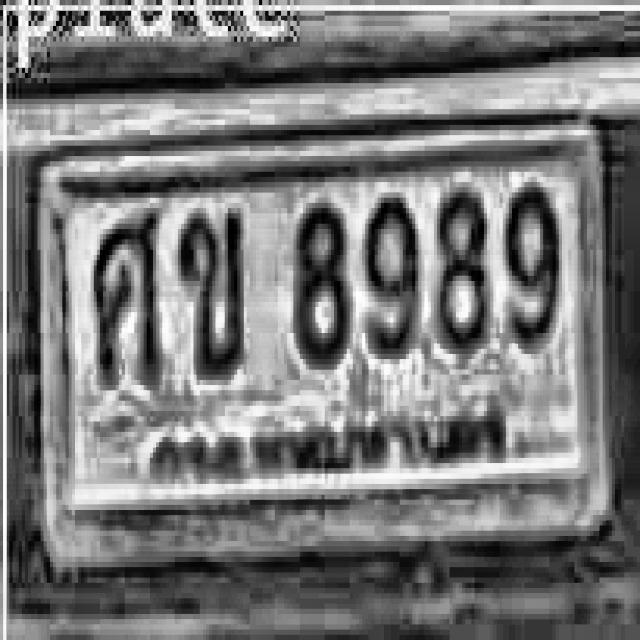license-plate: (23, 101, 623, 594)
